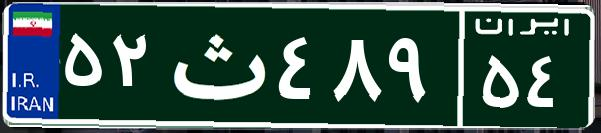2: (110, 28, 158, 105)
4: (273, 28, 330, 110), (525, 38, 570, 115)
5: (57, 26, 110, 107), (475, 38, 525, 113)
8: (330, 28, 385, 110)
9: (385, 28, 445, 110)
ث: (158, 15, 273, 115)
